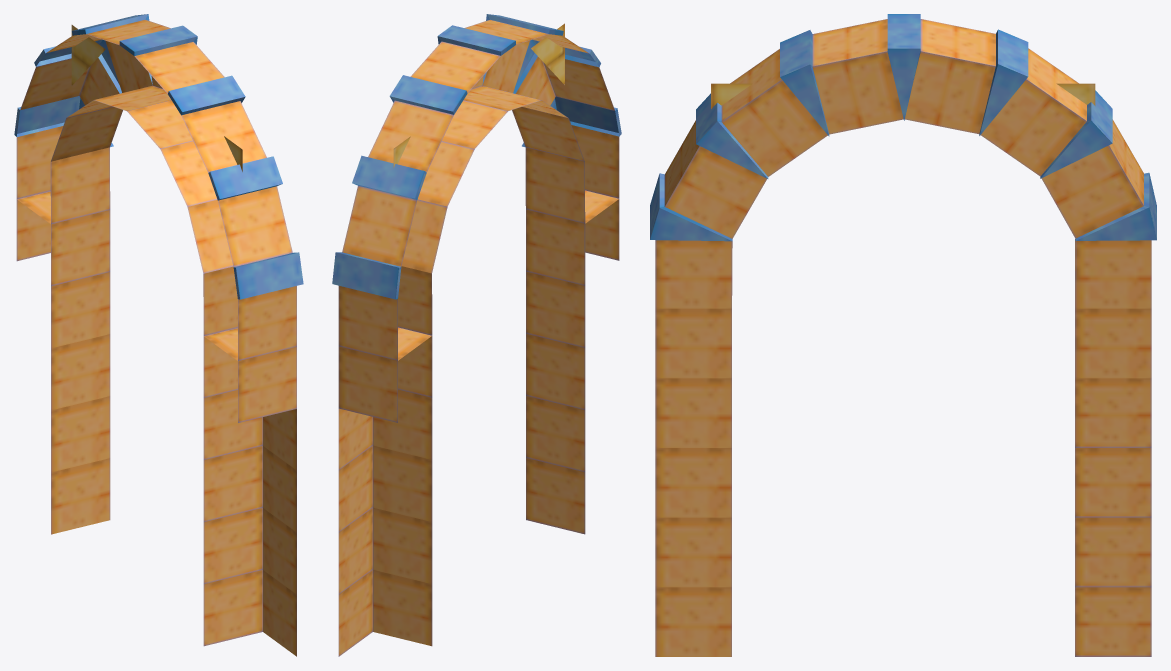
Rendered from geo_largeArc.fbx.
3 views of the same model, side by side, from view 1: azimuth 30°, elevation 25°; view 2: azimuth 150°, elevation 25°; view 3: azimuth 270°, elevation 25° (orthographic). The views are drawn at different scales.
Visible parts, largest first — view 1: geo_largeArc; view 2: geo_largeArc; view 3: geo_largeArc.
Part boxes in pixels (x1,y1,x2,y2): geo_largeArc: (14,14,303,656); geo_largeArc: (332,14,621,656); geo_largeArc: (650,14,1156,656).
Size of the model in its own units: 2.14 by 17.53 by 13.19.
